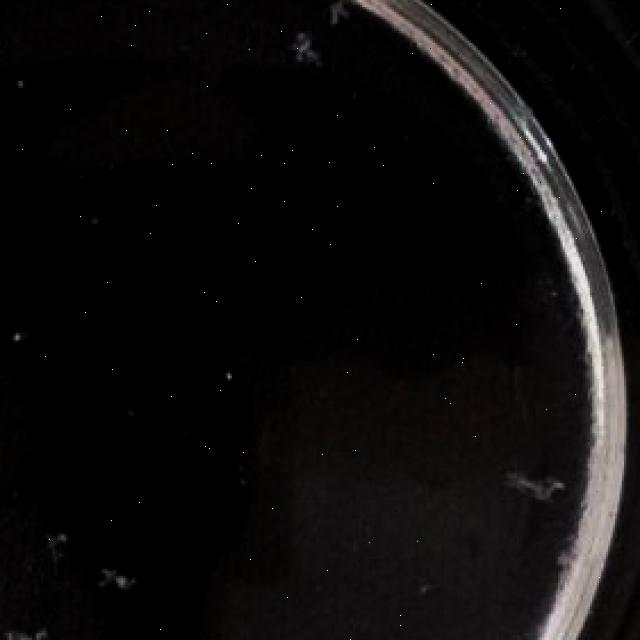Microplastic: (84, 559, 139, 602), (289, 26, 321, 88), (319, 0, 360, 40), (517, 476, 569, 507), (7, 614, 48, 640)
